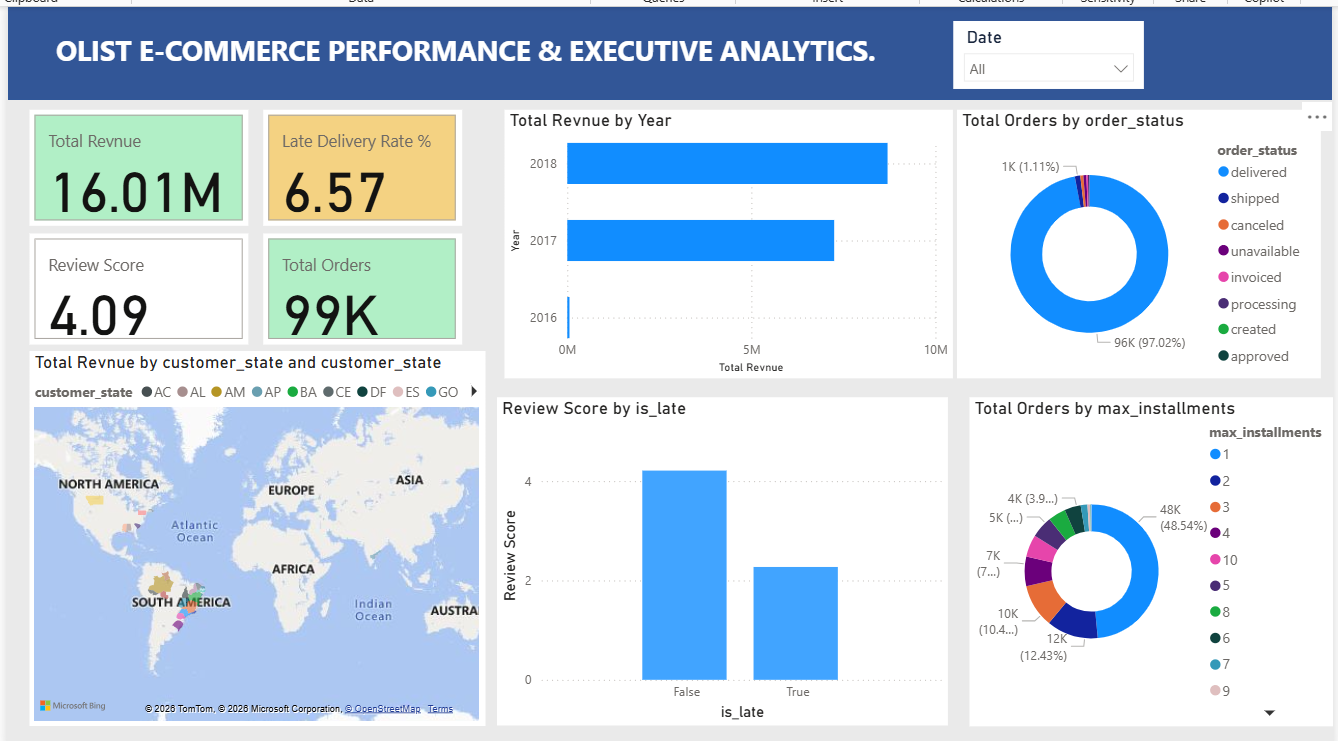

The dashboard page shown, as its layout file describes it:
{"tool":"powerbi","page":{"name":"Page 1","canvas":[1280,720],"ordinal":0},"visuals":[{"type":"cardVisual","fields":{"Data":["olist_analyst_master_data.Total Revnue"]},"box":[21.7,100.1,211.1,112.2],"z":0},{"type":"cardVisual","fields":{"Data":["olist_analyst_master_data.Late Delivery Rate %"]},"box":[247.3,100.1,191.8,112.2],"z":1000},{"type":"cardVisual","fields":{"Data":["olist_analyst_master_data.Review Score"]},"box":[21.7,219.6,211.1,107.4],"z":2000},{"type":"cardVisual","fields":{"Data":["olist_analyst_master_data.Total Orders"]},"box":[247.3,219.6,191.8,107.4],"z":3000},{"type":"clusteredBarChart","fields":{"Category":["olist_analyst_master_data.order_purchase_timestamp.Variation.Date Hierarchy.Year","olist_analyst_master_data.order_purchase_timestamp.Variation.Date Hierarchy.Month"],"Y":["olist_analyst_master_data.Total Revnue"]},"box":[480.2,100.1,433.1,259.4],"z":4000},{"type":"clusteredColumnChart","fields":{"Category":["olist_analyst_master_data.is_late"],"Y":["olist_analyst_master_data.Review Score"]},"box":[473.2,377.9,435.3,316.7],"z":5000},{"type":"filledMap","fields":{"Category":["state_performance_powerbi.customer_state"],"Series":["olist_analyst_master_data.customer_state"]},"box":[22,332.6,439,362],"z":6000},{"type":"donutChart","fields":{"Category":["olist_analyst_master_data.max_installments"],"Y":["olist_analyst_master_data.Total Orders"]},"box":[929,377.6,351.1,317.3],"z":7000},{"type":"donutChart","fields":{"Category":["olist_analyst_master_data.order_status"],"Y":["olist_analyst_master_data.Total Orders"]},"box":[916.9,100.1,351.1,259.4],"z":8000},{"type":"shape","box":[0,0,1280,91.7],"z":9000},{"type":"textbox","box":[42.2,19.3,874.7,54.3],"z":10000},{"type":"slicer","fields":{"Values":["olist_analyst_master_data.order_purchase_timestamp"]},"box":[912.8,13.9,184.3,65.7],"z":11000}]}

Visuals, with their boxes on the page's 1280x720 design canvas (x1, y1, x2, y2). These are canvas units, not pixel positions in the 1338x741 screenshot, which may show the page scaled, cropped or inside an application window:
cardVisual - olist_analyst_master_data.Total Revnue: detection(22, 100, 233, 212)
cardVisual - olist_analyst_master_data.Late Delivery Rate %: detection(247, 100, 439, 212)
cardVisual - olist_analyst_master_data.Review Score: detection(22, 220, 233, 327)
cardVisual - olist_analyst_master_data.Total Orders: detection(247, 220, 439, 327)
clusteredBarChart - olist_analyst_master_data.order_purchase_timestamp.Variation.Date Hierarchy.Year x olist_analyst_master_data.order_purchase_timestamp.Variation.Date Hierarchy.Month: detection(480, 100, 913, 360)
clusteredColumnChart - olist_analyst_master_data.is_late x olist_analyst_master_data.Review Score: detection(473, 378, 908, 695)
filledMap - state_performance_powerbi.customer_state x olist_analyst_master_data.customer_state: detection(22, 333, 461, 695)
donutChart - olist_analyst_master_data.max_installments x olist_analyst_master_data.Total Orders: detection(929, 378, 1280, 695)
donutChart - olist_analyst_master_data.order_status x olist_analyst_master_data.Total Orders: detection(917, 100, 1268, 360)
shape: detection(0, 0, 1280, 92)
textbox: detection(42, 19, 917, 74)
slicer - olist_analyst_master_data.order_purchase_timestamp: detection(913, 14, 1097, 80)
